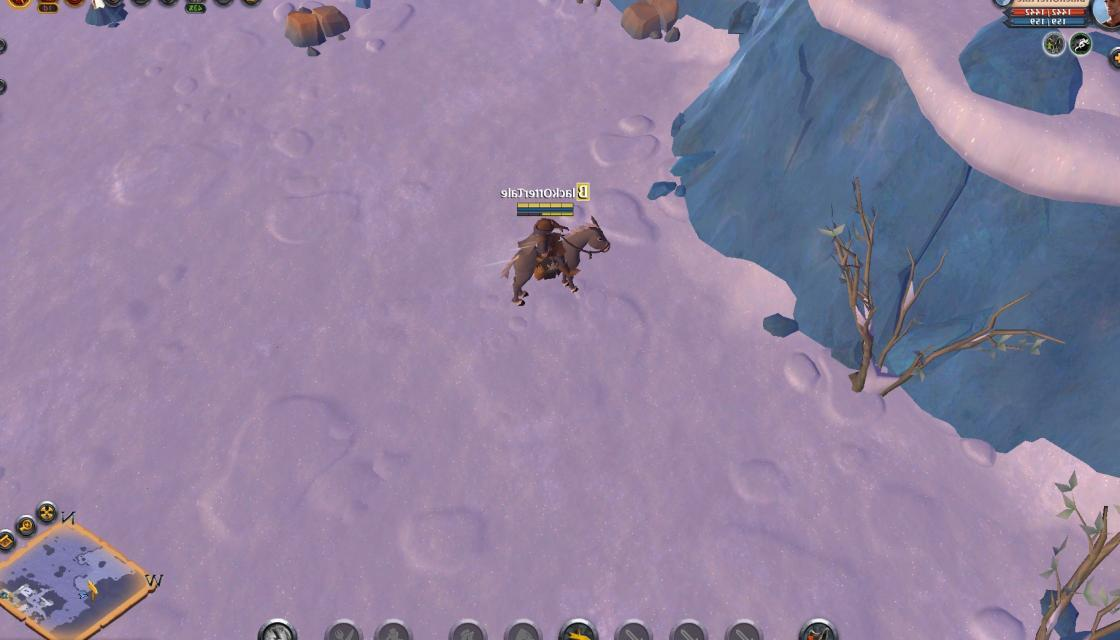copperore: (81, 0, 128, 28)
limestone: (278, 0, 354, 55), (618, 0, 686, 43)
